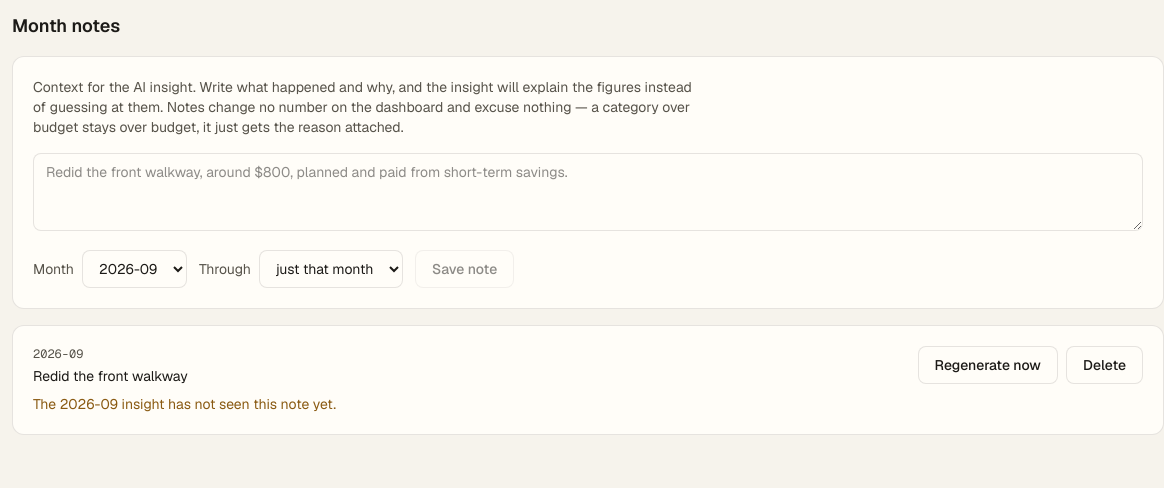
Test: two minutes of replies from something that is not the jobs endpoint says that
Expected: the text "Redid the front walkway" is shown, [33,367,188,385]
Click the button "Regenerate now" at (988, 365), box [918,346,1058,384]
Wait 122000 ms
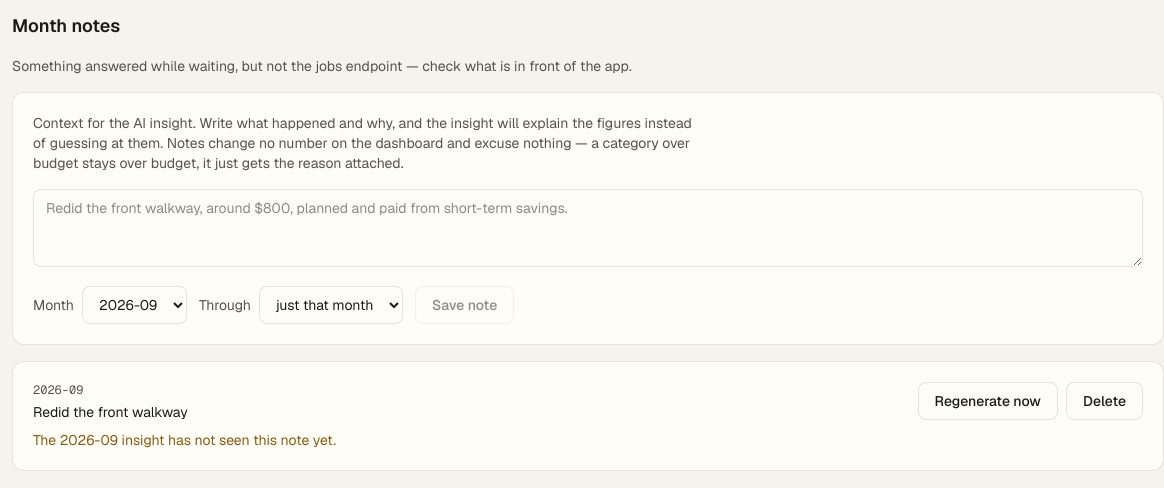
Result: the text "Something answered while waiting, but not the jobs endpoint — check what is in front of the app." is shown at [12,57,632,75]
